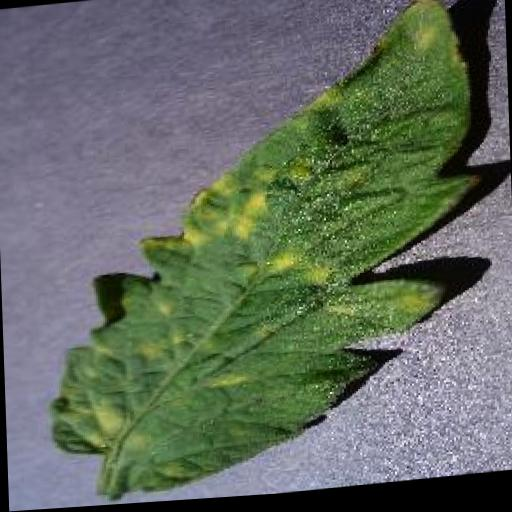Leaf Mold: (34, 0, 487, 504)
